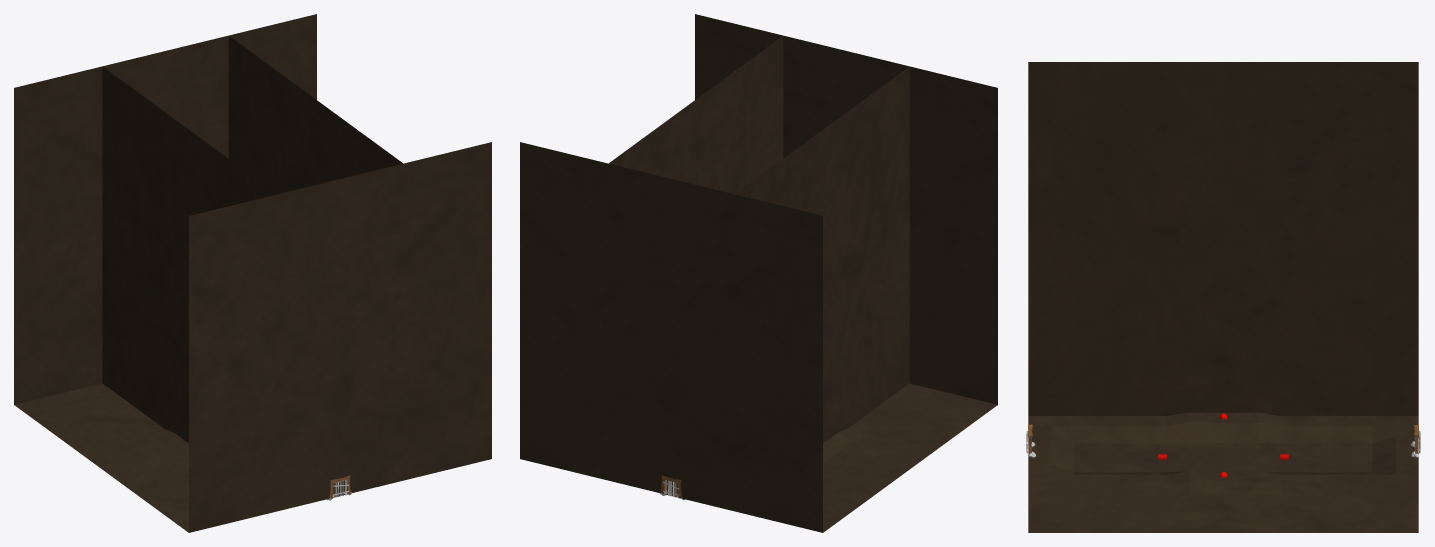
File: Room010.fbx
3 views of the same model, side by side, from view 1: azimuth 30°, elevation 25°; view 2: azimuth 150°, elevation 25°; view 3: azimuth 270°, elevation 25° (orthographic). The views are drawn at different scales.
Parts seen in each view (by area): view 1: 4ParedN, 2ParedS, 3ParedSinPuertaE, 1ParedSinPuertaW, 1Suelo.014, 4Pared.002N, 4Pared.001N, 2Pared.001S; view 2: 2ParedS, 4ParedN, 3ParedSinPuertaE, 1ParedSinPuertaW, 1Suelo.014, 2Pared.001S, 2Pared.002S, 4Pared.001N; view 3: 3ParedSinPuertaE, 1Suelo.014.
Part boxes in pixels (<box>): 4ParedN: <box>189,142,491,516</box>; 2ParedS: <box>14,14,316,388</box>; 3ParedSinPuertaE: <box>102,66,276,443</box>; 1ParedSinPuertaW: <box>228,36,402,194</box>; 1Suelo.014: <box>14,383,345,532</box>; 4Pared.002N: <box>350,443,491,493</box>; 4Pared.001N: <box>189,482,330,532</box>; 2Pared.001S: <box>14,367,102,404</box>; 2ParedS: <box>520,142,822,516</box>; 4ParedN: <box>695,14,997,388</box>; 3ParedSinPuertaE: <box>735,66,909,443</box>; 1ParedSinPuertaW: <box>609,36,783,194</box>; 1Suelo.014: <box>666,383,997,532</box>; 2Pared.001S: <box>679,482,822,532</box>; 2Pared.002S: <box>520,443,661,493</box>; 4Pared.001N: <box>909,367,997,404</box>; 3ParedSinPuertaE: <box>1028,62,1418,415</box>; 1Suelo.014: <box>1028,412,1418,532</box>.
Size of the model in its own units: 9600 by 9850 by 9691.
